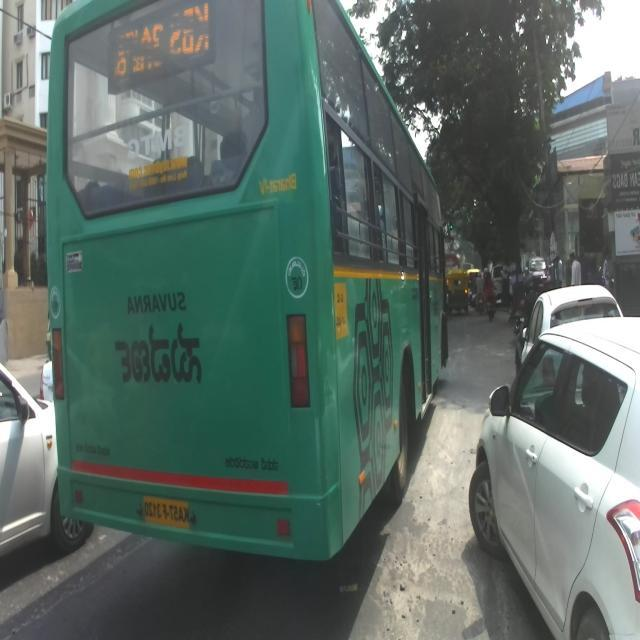pothole: (386, 504, 458, 640)
